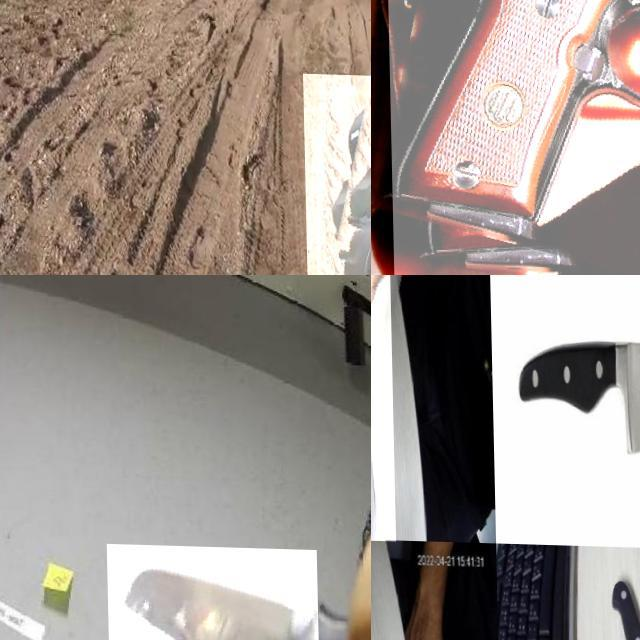-: (105, 542, 318, 640), (371, 275, 425, 540), (594, 275, 640, 481)
gun-knife-thesis - v11 Yolov5 augmented: (384, 0, 640, 275)
